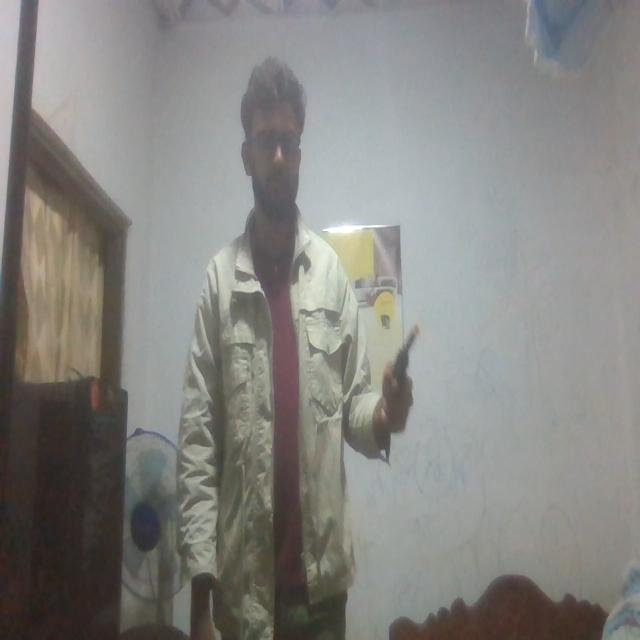Gun_Holder: (378, 320, 428, 401)
Jacket_Wearer: (168, 226, 386, 596)
Person: (167, 47, 411, 640)
